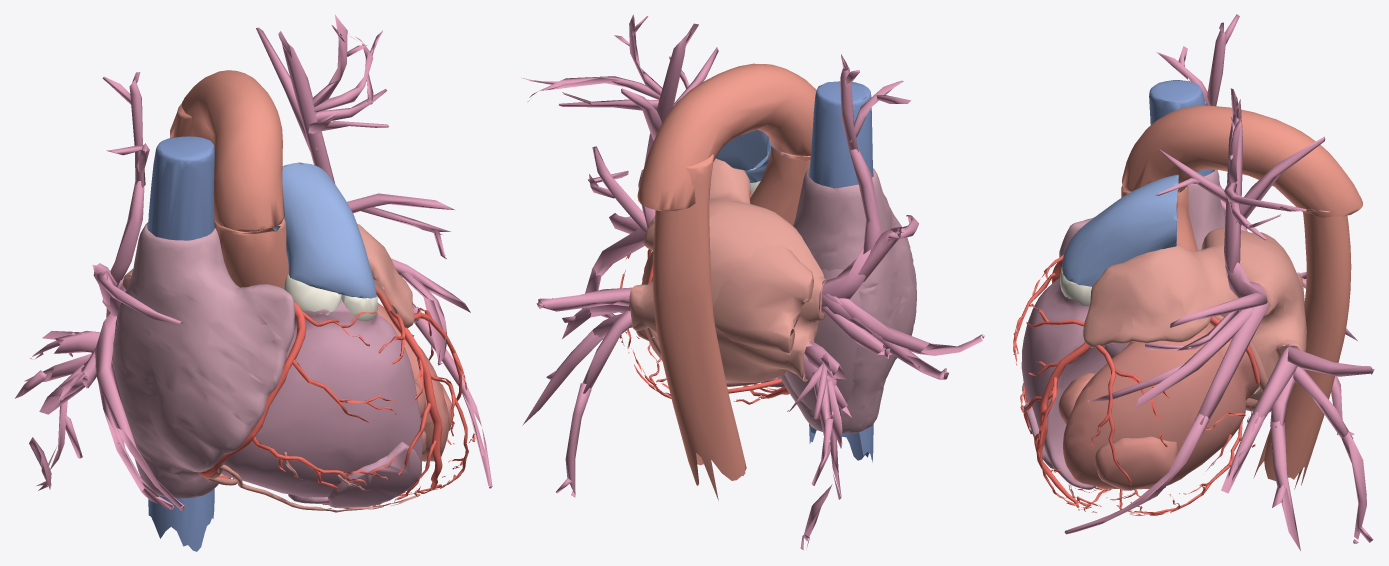
Rendered from heart.glb.
The picture shows the model from 3 angles, left to right: view 1: azimuth 30°, elevation 25°; view 2: azimuth 150°, elevation 25°; view 3: azimuth 270°, elevation 25°; orthographic projection. The views are drawn at different scales.
Visible parts, largest first — view 1: RA, RV, pulm_veins, aorta, pulm_trunk, coronaries, svc, ivc, LA, LV, valve_pul, rest; view 2: aorta, pulm_veins, LA, RA, svc, pulm_trunk, coronaries, ivc; view 3: aorta, pulm_veins, LV, LA, RV, pulm_trunk, coronaries, RA, svc, valve_pul, rest.
Boxes of the visible parts, x1,y1,x2,y2 form: RA: (112, 222, 294, 498); RV: (221, 298, 422, 508); pulm_veins: (15, 14, 492, 510); aorta: (170, 70, 288, 288); pulm_trunk: (273, 162, 376, 298); coronaries: (198, 286, 475, 508); svc: (148, 136, 214, 240); ivc: (148, 489, 214, 551); LA: (106, 223, 414, 327); LV: (377, 303, 452, 461); valve_pul: (283, 274, 377, 321); rest: (204, 452, 420, 512); aorta: (637, 63, 816, 500); pulm_veins: (522, 14, 984, 550); LA: (629, 158, 826, 382); RA: (780, 167, 916, 433); svc: (809, 81, 872, 188); pulm_trunk: (716, 130, 794, 182); coronaries: (619, 193, 789, 404); ivc: (809, 424, 873, 462); aorta: (1121, 105, 1362, 489); pulm_veins: (1064, 14, 1374, 550); LV: (1058, 322, 1259, 490); LA: (1083, 228, 1306, 400); RV: (1021, 278, 1129, 489); pulm_trunk: (1062, 174, 1178, 286); coronaries: (1013, 254, 1260, 515); RA: (1052, 169, 1225, 278); svc: (1149, 80, 1214, 176); valve_pul: (1060, 267, 1091, 306); rest: (1026, 315, 1271, 498).
Size of the model in its own units: 0.1347 by 0.1715 by 0.1309.
